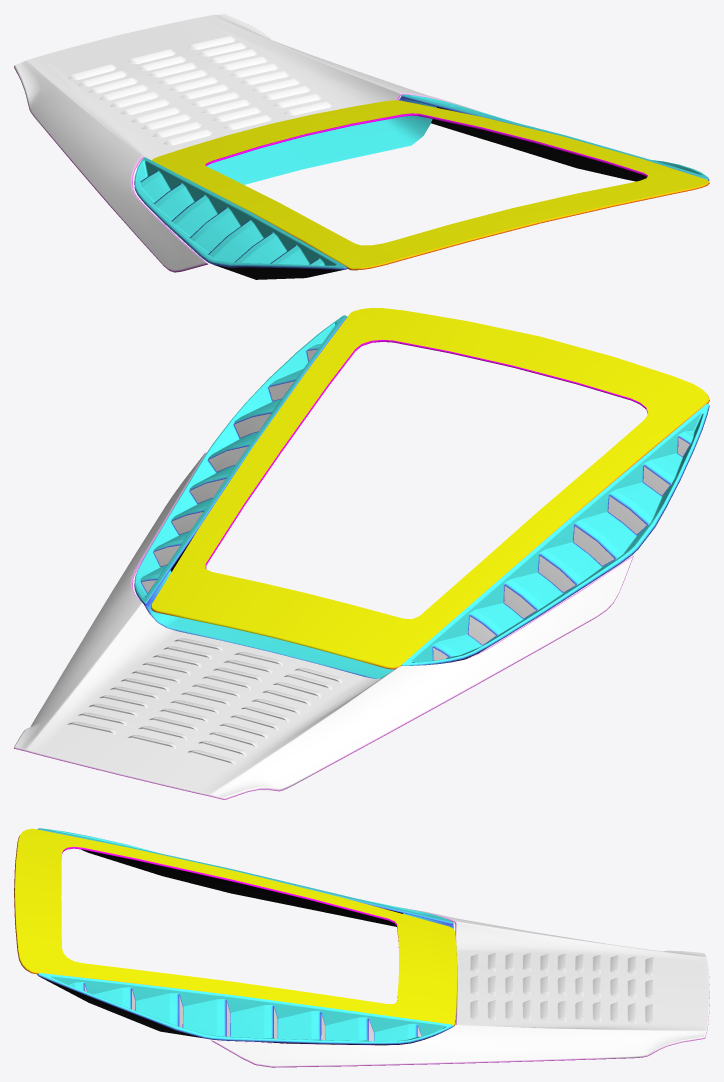
Rendered from Car_Ford_GT_2017_Boot_SetD.fbx.
The picture shows the model from 3 angles, top to bottom: view 1: azimuth 30°, elevation 25°; view 2: azimuth 150°, elevation 25°; view 3: azimuth 270°, elevation 25°; orthographic projection. The views are drawn at different scales.
Parts seen in each view (by area): view 1: Boot 6; view 2: Boot 6; view 3: Boot 6.
Part boxes in pixels (left/top/right/bottom): Boot 6: left=14, top=14, right=709, bottom=279; Boot 6: left=14, top=308, right=709, bottom=799; Boot 6: left=14, top=828, right=709, bottom=1067.
Bounding box in the file's own units: 0.8175 × 0.2519 × 1.37.
